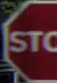Stop: (9, 6, 56, 62)
